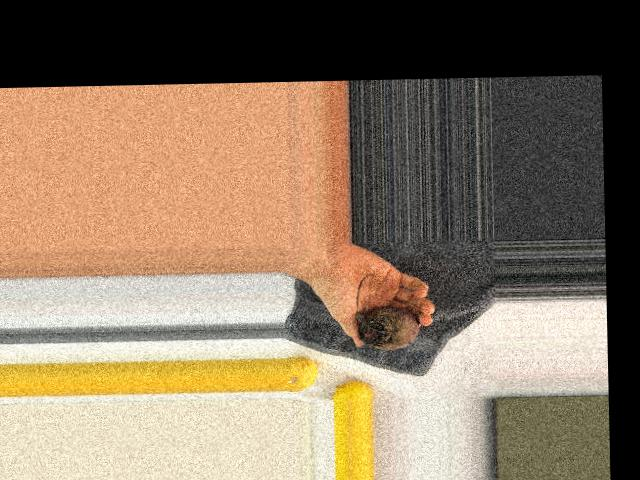beet: (358, 273, 421, 350)
